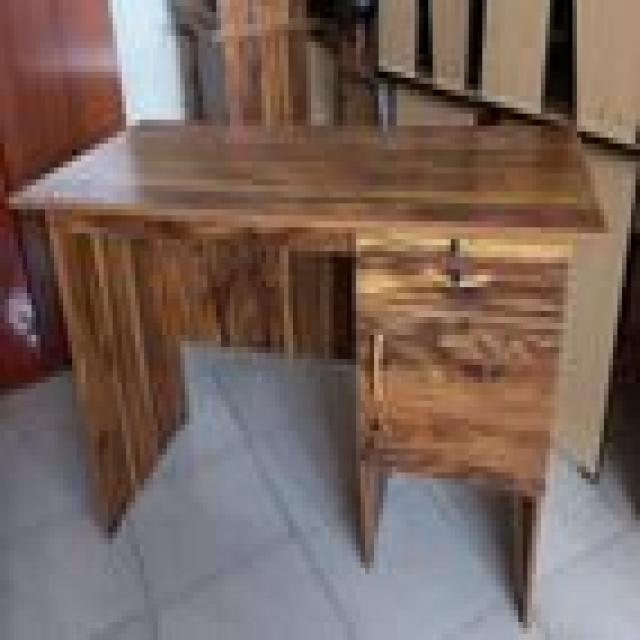others: (4, 6, 613, 640)
